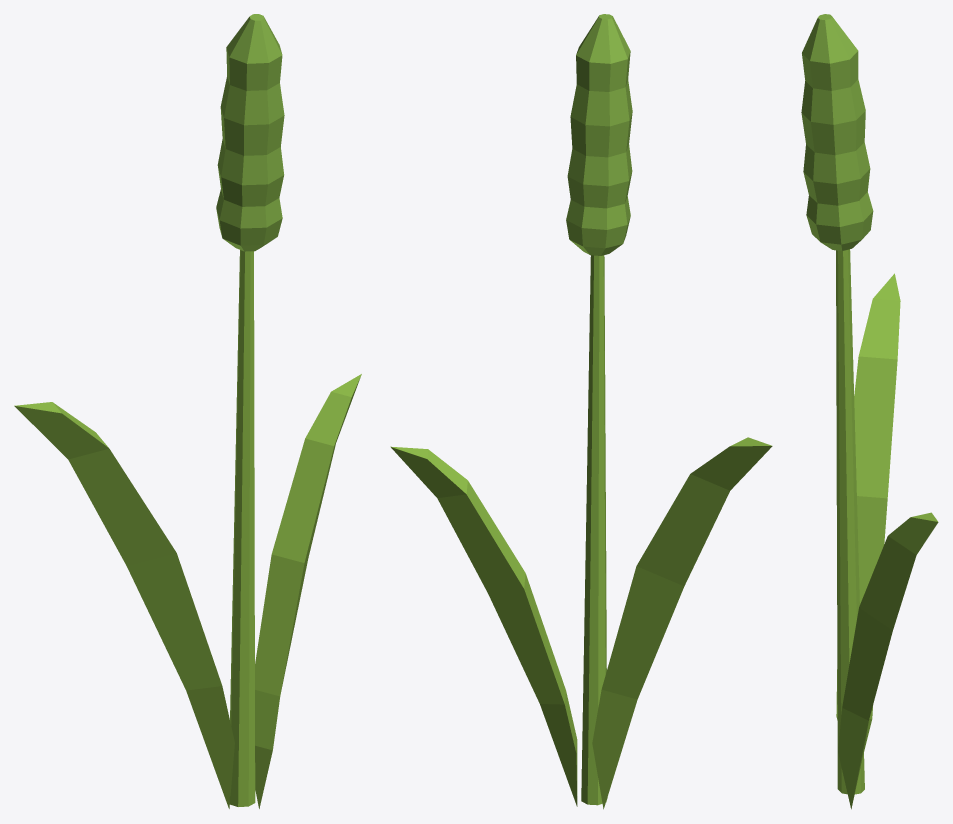
The model's file is reeds_04.fbx.
The picture shows the model from 3 angles, left to right: view 1: azimuth 30°, elevation 25°; view 2: azimuth 150°, elevation 25°; view 3: azimuth 270°, elevation 25°; orthographic projection. The views are drawn at different scales.
Visible parts, largest first — view 1: reeds_04; view 2: reeds_04; view 3: reeds_04.
Boxes of the visible parts, left/top/right/bottom form: reeds_04: left=14, top=14, right=361, bottom=808; reeds_04: left=390, top=14, right=772, bottom=809; reeds_04: left=801, top=14, right=938, bottom=809.
Bounding box in the file's own units: 67.14 × 140 × 22.09.
